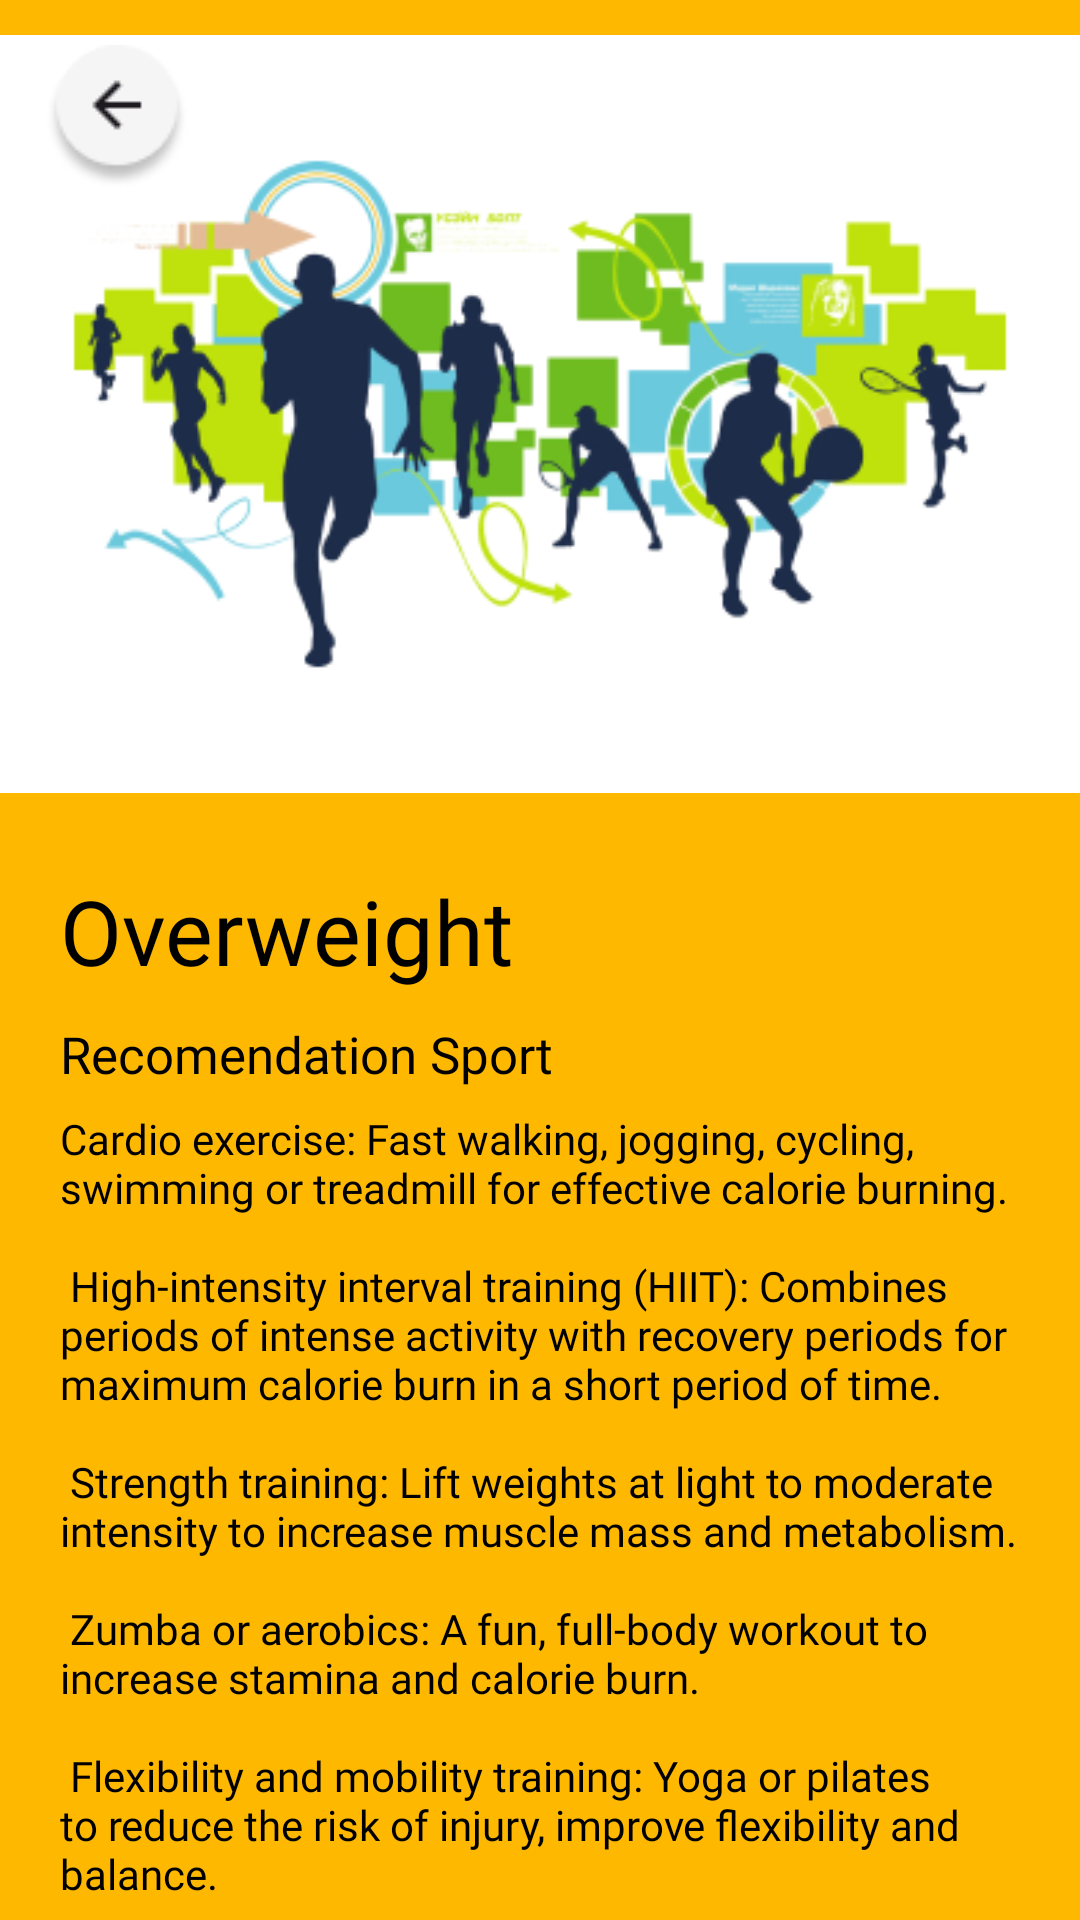

Named icons in this screenshot (1080×1920) and their bounding boxes, box=[x1, y1, x2, y2]:
back: box=[51, 45, 183, 183]
